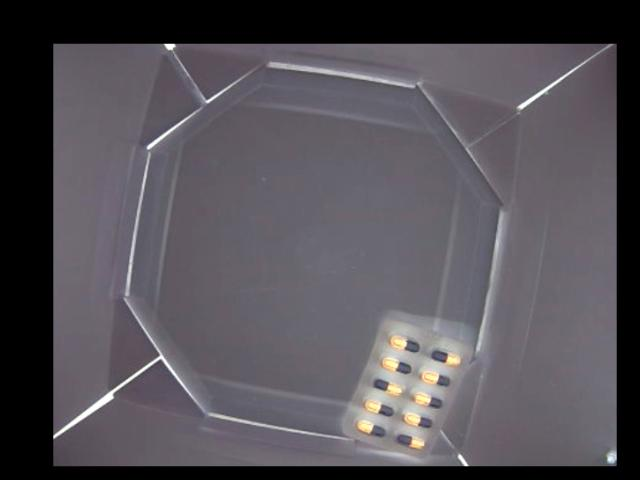Medicine: (341, 317, 473, 455)
